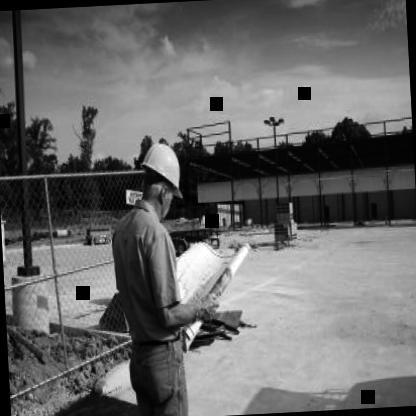helmet: (128, 132, 188, 221)
